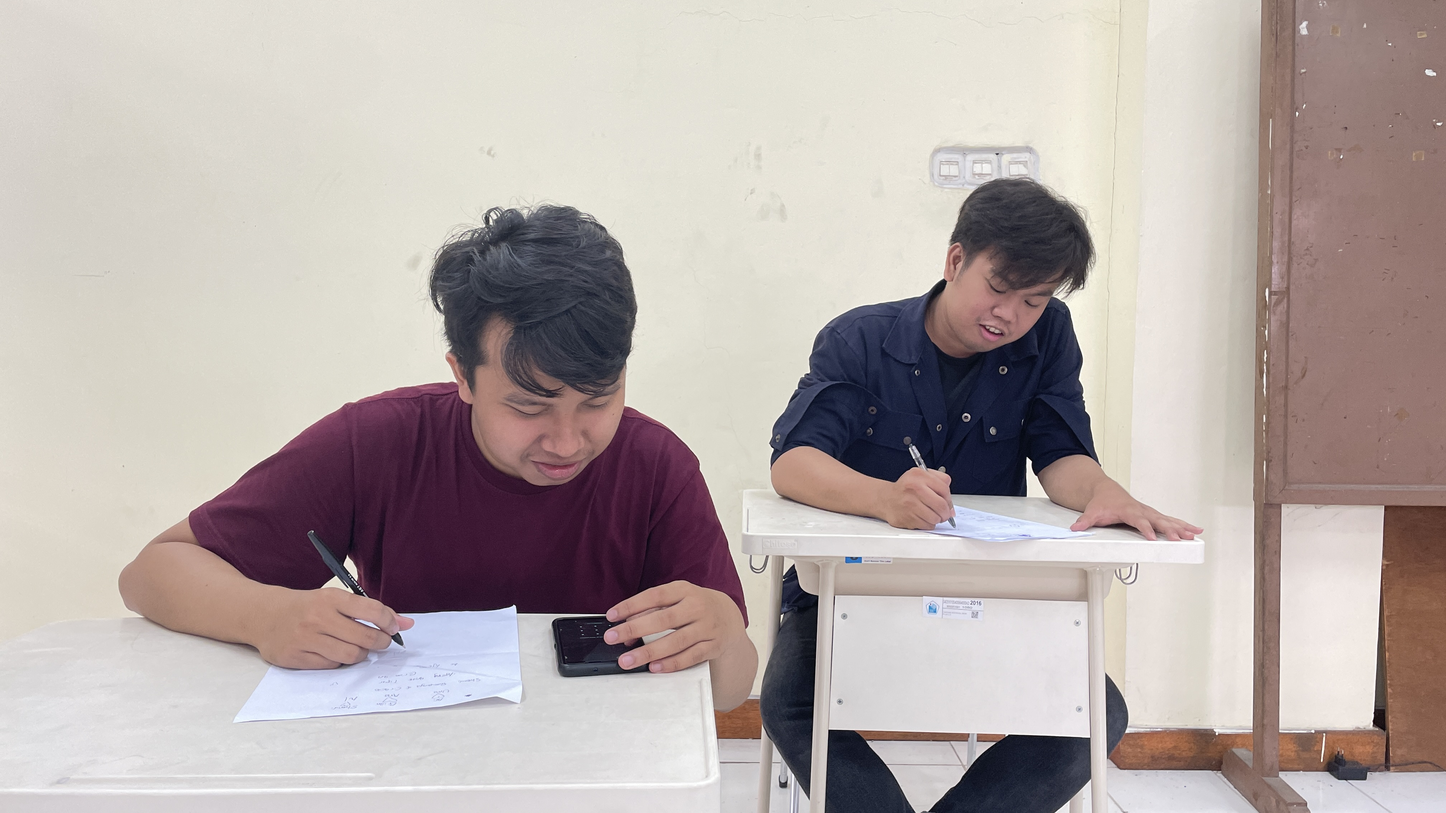phone: (550, 615, 651, 685)
